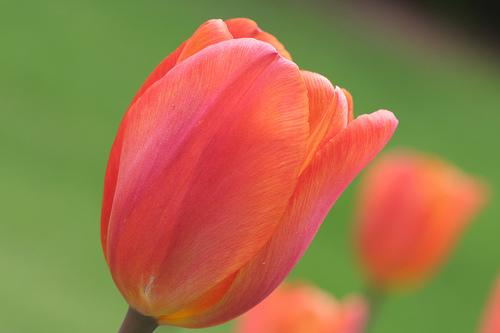tulip: (104, 17, 399, 333)
